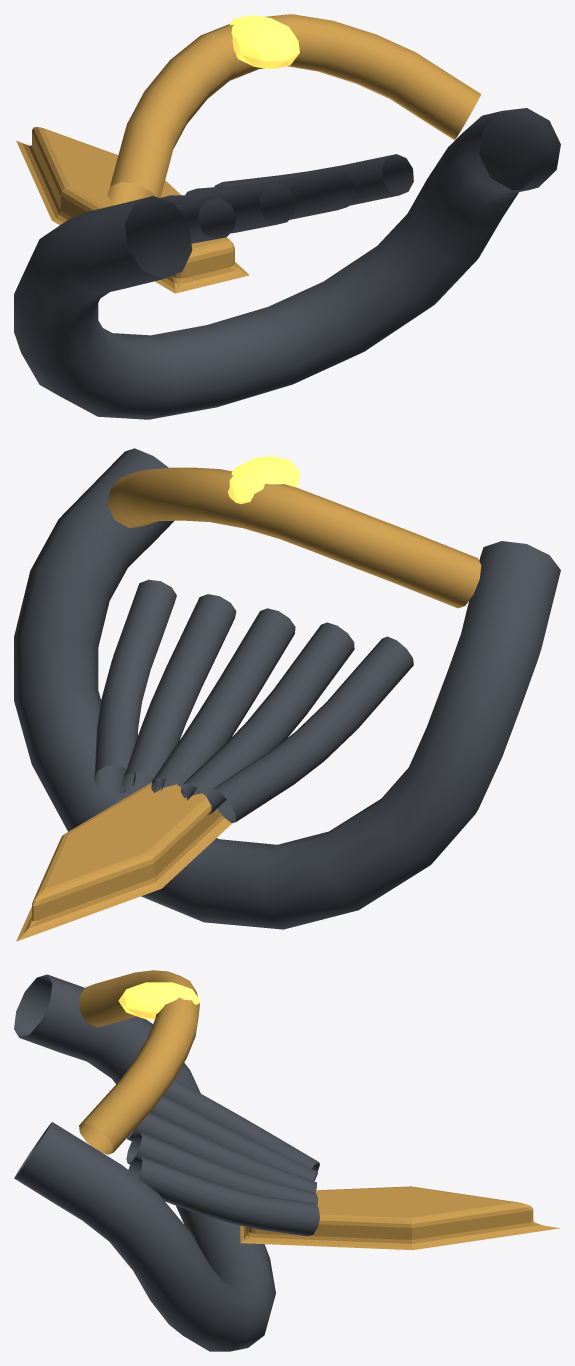
The model's file is helmet_bastion.glb.
The picture shows the model from 3 angles, top to bottom: view 1: azimuth 30°, elevation 25°; view 2: azimuth 150°, elevation 25°; view 3: azimuth 270°, elevation 25°; orthographic projection. The views are drawn at different scales.
Parts seen in each view (by area): view 1: CrownBand, BrowGuard, Crest, CrownRib.004, CrownRib.003, CrownRib.002, ForeheadGem, CrownRib.001; view 2: CrownBand, BrowGuard, Crest, CrownRib, CrownRib.001, CrownRib.004, CrownRib.002, CrownRib.003, ForeheadGem; view 3: CrownBand, Crest, BrowGuard, CrownRib.004, CrownRib.003, CrownRib.002, CrownRib.001, CrownRib, ForeheadGem.
Part boxes in pixels (left/top/right/bottom): CrownBand: left=14, top=108, right=560, bottom=419; BrowGuard: left=107, top=14, right=481, bottom=205; Crest: left=16, top=127, right=249, bottom=293; CrownRib.004: left=214, top=154, right=413, bottom=205; CrownRib.003: left=185, top=168, right=354, bottom=219; CrownRib.002: left=160, top=183, right=295, bottom=233; ForeheadGem: left=229, top=15, right=299, bottom=69; CrownRib.001: left=175, top=198, right=236, bottom=243; CrownBand: left=14, top=448, right=560, bottom=929; BrowGuard: left=107, top=467, right=481, bottom=608; Crest: left=16, top=782, right=231, bottom=941; CrownRib: left=212, top=636, right=413, bottom=823; CrownRib.001: left=181, top=622, right=354, bottom=814; CrownRib.004: left=94, top=579, right=176, bottom=793; CrownRib.002: left=151, top=608, right=295, bottom=800; CrownRib.003: left=122, top=594, right=236, bottom=794; ForeheadGem: left=227, top=456, right=299, bottom=504; CrownBand: left=14, top=974, right=275, bottom=1351; Crest: left=240, top=1186, right=559, bottom=1250; BrowGuard: left=79, top=970, right=199, bottom=1154; CrownRib.004: left=128, top=1156, right=319, bottom=1236; CrownRib.003: left=126, top=1132, right=317, bottom=1206; CrownRib.002: left=127, top=1112, right=316, bottom=1192; CrownRib.001: left=150, top=1096, right=317, bottom=1181; CrownRib: left=163, top=1079, right=319, bottom=1171; ForeheadGem: left=118, top=982, right=199, bottom=1019.
Bounding box in the file's own units: 0.7287 × 0.5964 × 0.8668.
